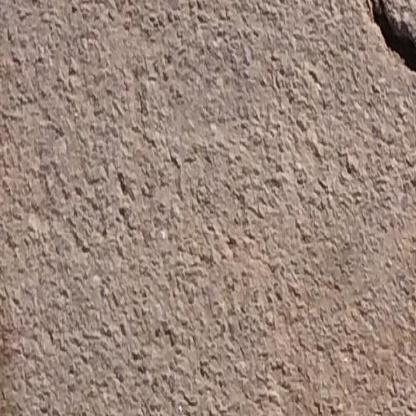Cracks: (359, 0, 416, 88)
